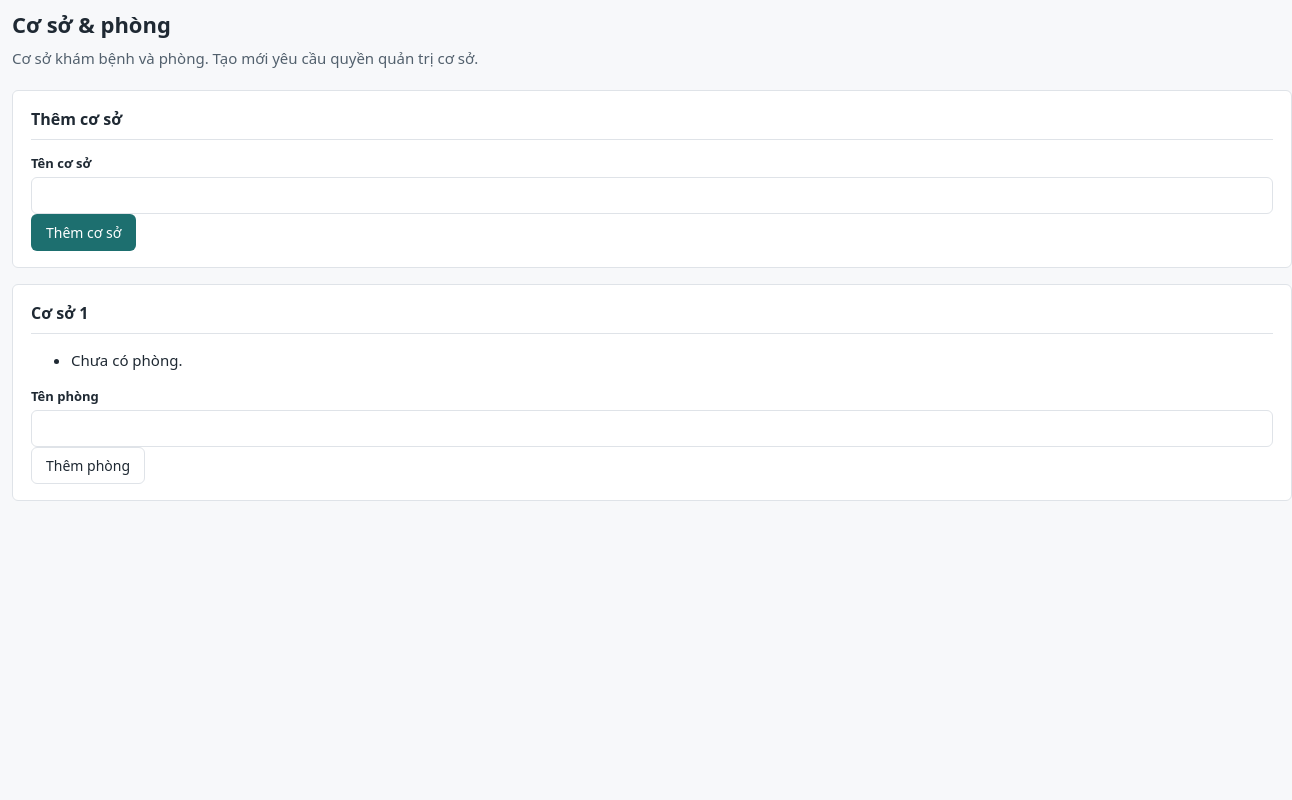
Test: FacilitiesRoomsPage (DEC-018) › shows an error toast when facility creation fails
This screenshot has width=1292, height=800.
Expected: the heading "Cơ sở 1" is shown, [31,301,1273,334]
Step 1. Type "X" into the field labelled "Tên cơ sở" → (652, 196), box [31,177,1273,214]
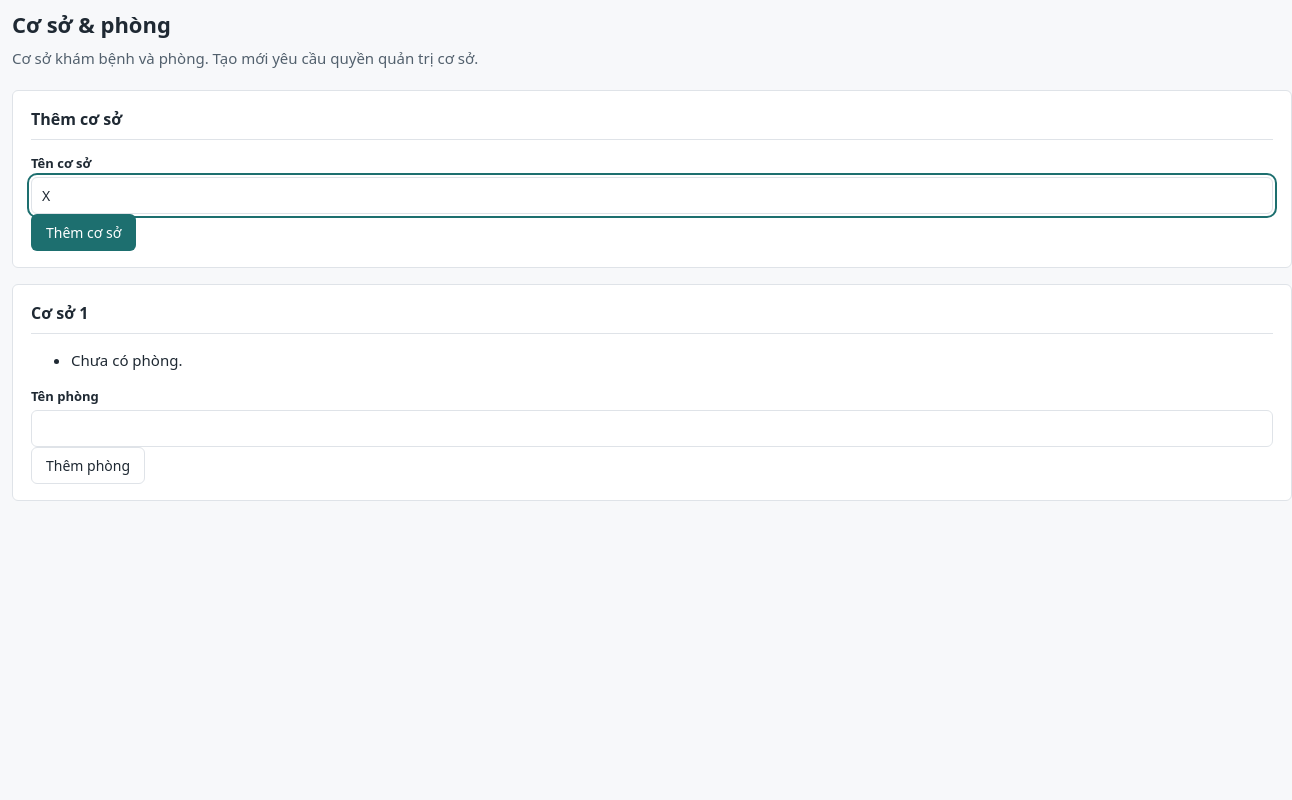
Step 2. Click the button "Thêm cơ sở" → click(84, 232), box [31,214,136,251]
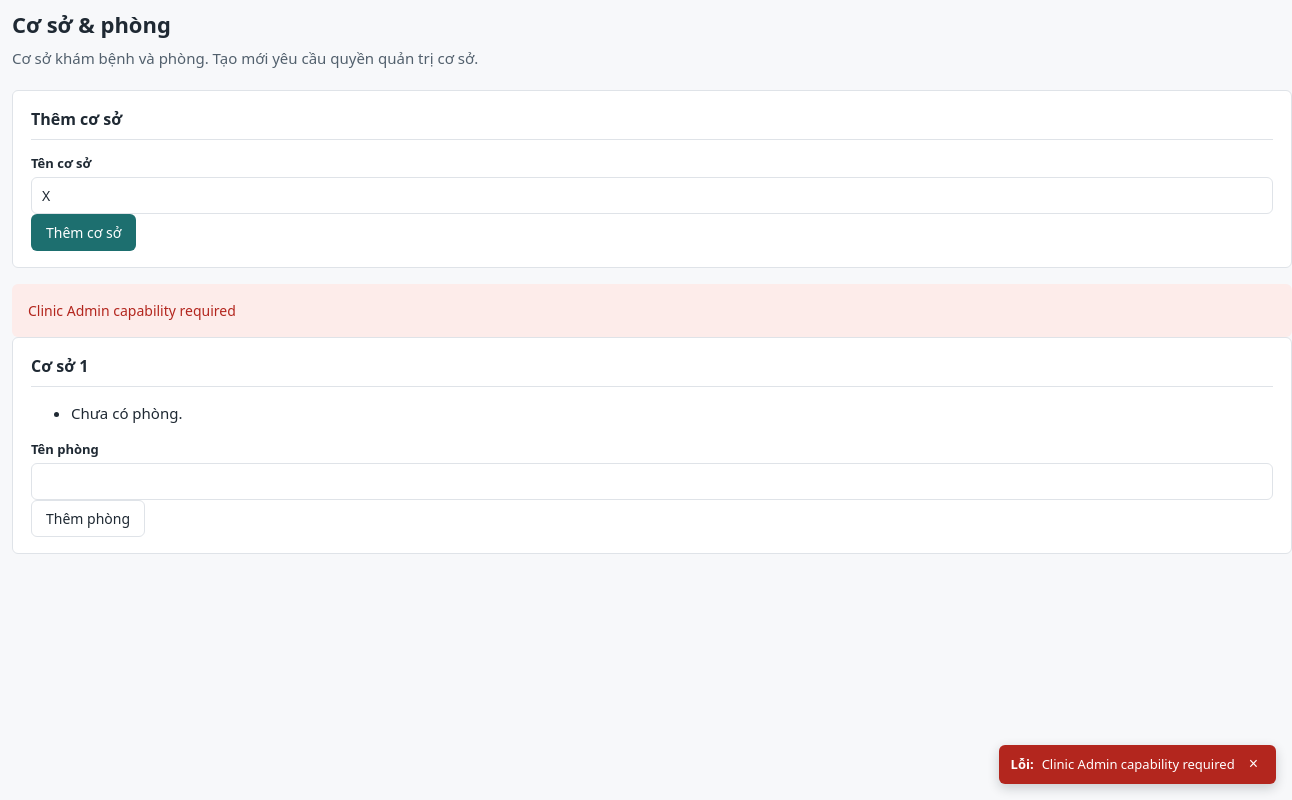
Expected: the text "Clinic Admin capability required" is shown, [12,284,1291,337]
